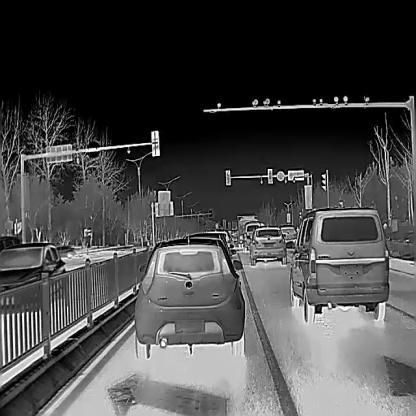car: (133, 240, 245, 359), (289, 207, 390, 324), (0, 240, 66, 308), (247, 225, 286, 266), (185, 233, 232, 260), (237, 214, 258, 249), (244, 220, 261, 252), (204, 228, 231, 247), (279, 223, 297, 248)
